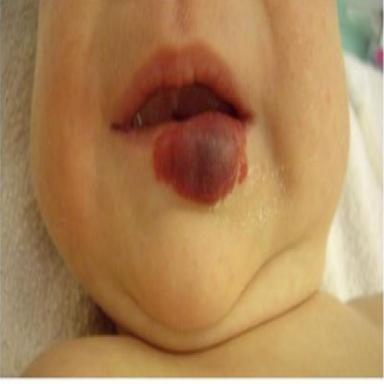Hemangiome: (153, 112, 247, 203)
